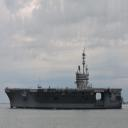Portanaves: (5, 46, 124, 111)
